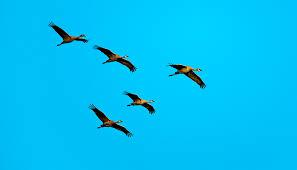bird: (159, 57, 209, 91), (88, 40, 139, 73), (113, 83, 157, 115)
